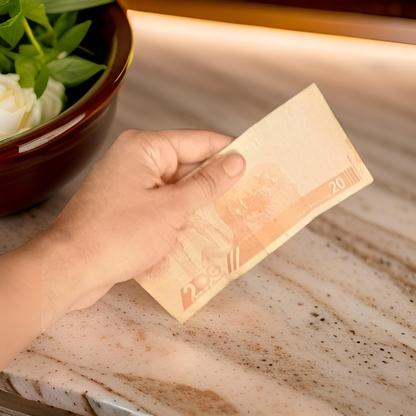twenty-back-vef: (131, 82, 373, 325)
